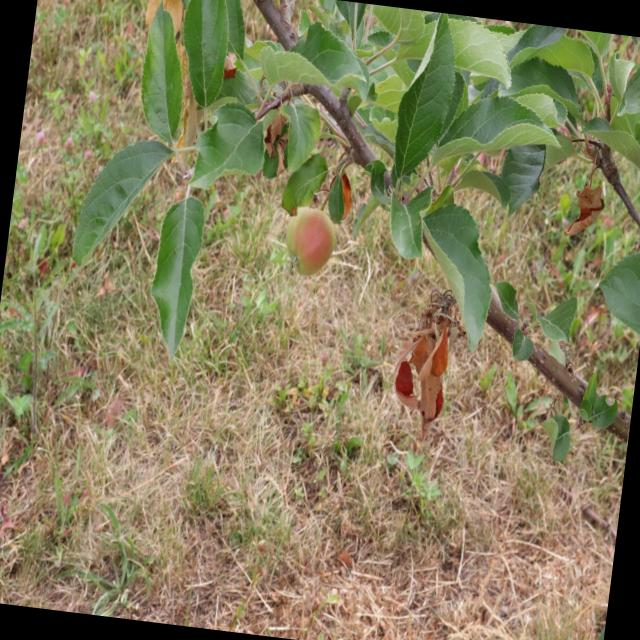-FireBlight-: (383, 301, 460, 442), (561, 161, 611, 242)
